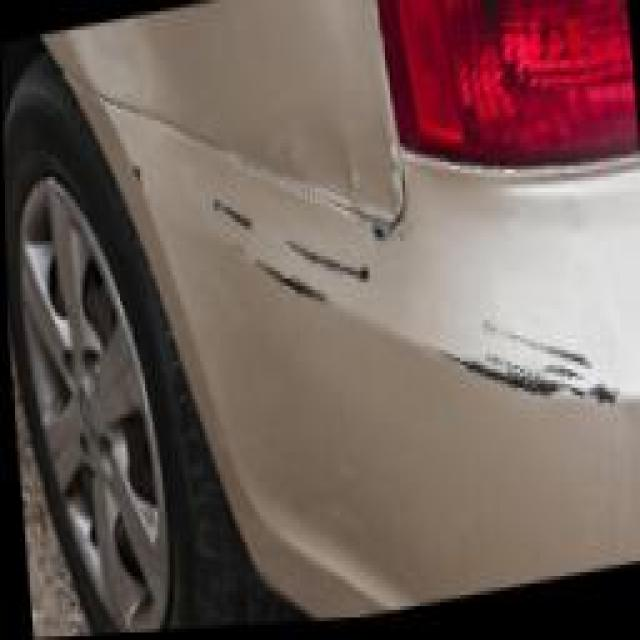Bumper: (90, 79, 639, 522)
